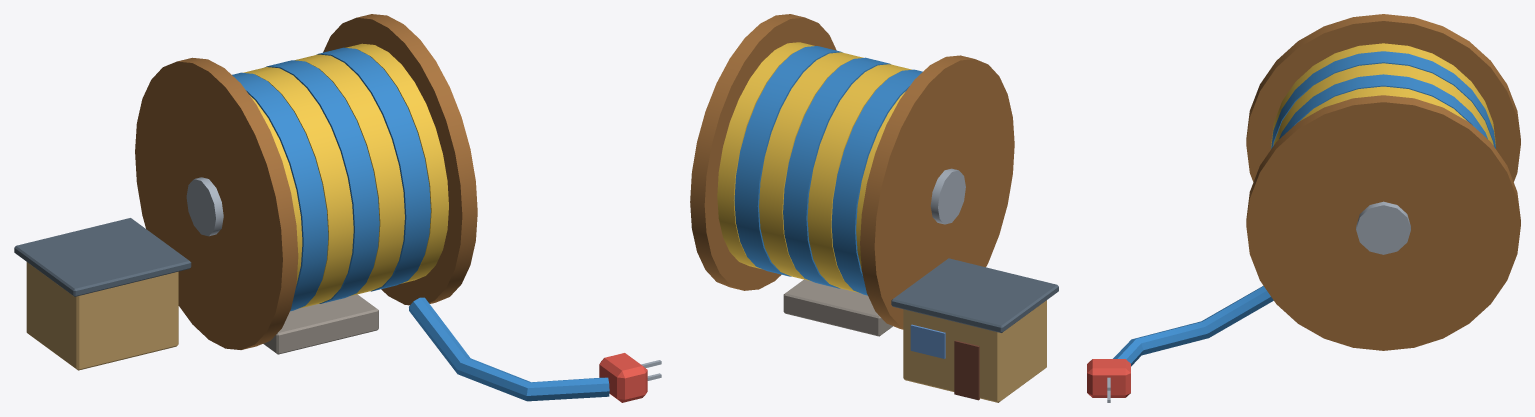
File: bld_d1_d.glb
The picture shows the model from 3 angles, left to right: view 1: azimuth 30°, elevation 25°; view 2: azimuth 150°, elevation 25°; view 3: azimuth 270°, elevation 25°; orthographic projection. The views are drawn at different scales.
Parts seen in each view (by area): view 1: bld_d1_d; view 2: bld_d1_d; view 3: bld_d1_d.
Part boxes in pixels (x1,y1,x2,y2): bld_d1_d: (14,14,661,402); bld_d1_d: (690,14,1058,402); bld_d1_d: (1087,14,1520,402).
Bounding box in the file's own units: 16.85 × 10.4 × 15.8.
